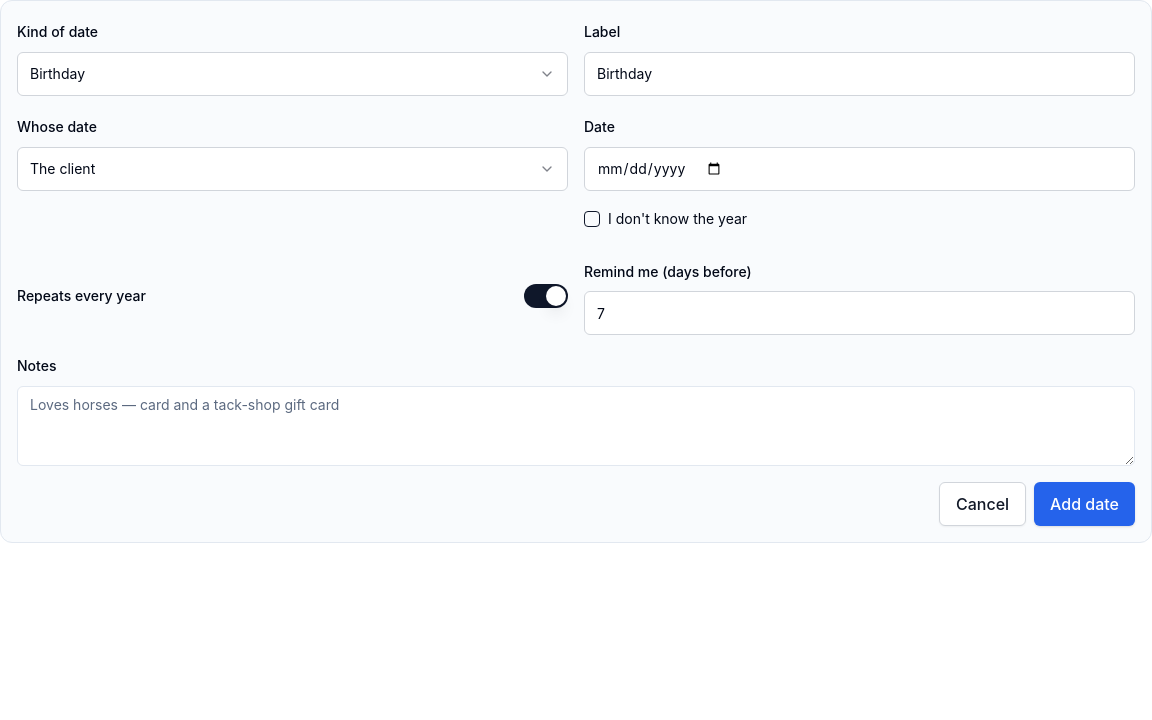
Test case: KeyDateForm › does not save without a date
What coordinates should you click on to do the following:
click the button "Add date"
I would click on:
 (1085, 504)
Its box is [1034,482,1135,526].
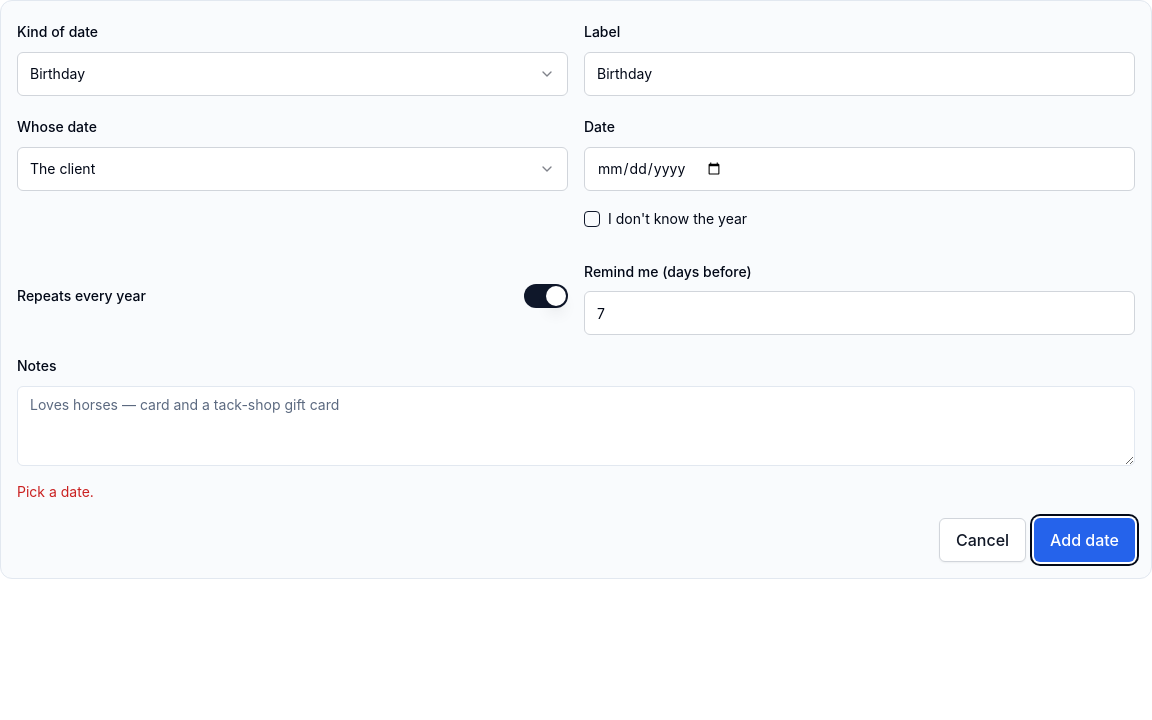
Expected: the message reads "Pick a date.", [17,483,94,500]
